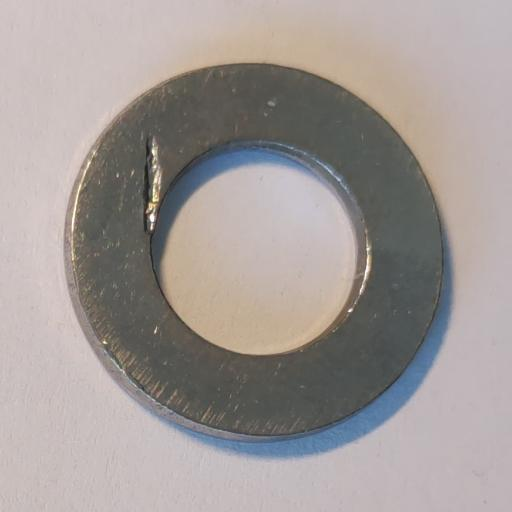scratch: (144, 135, 162, 232)
